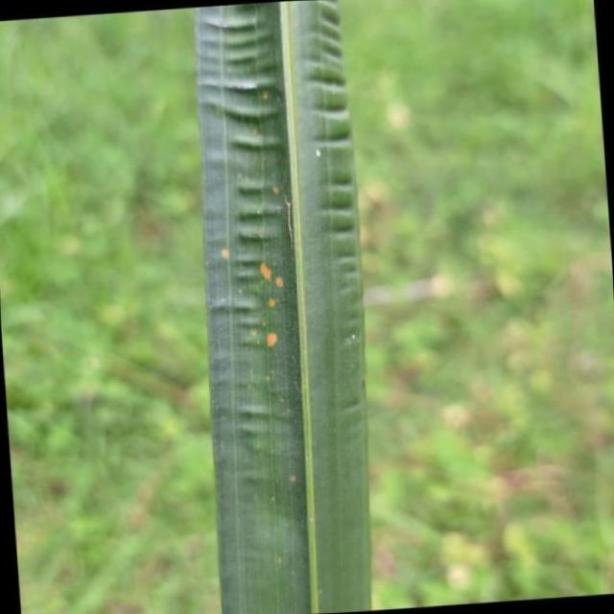Boron: (198, 3, 372, 614)
